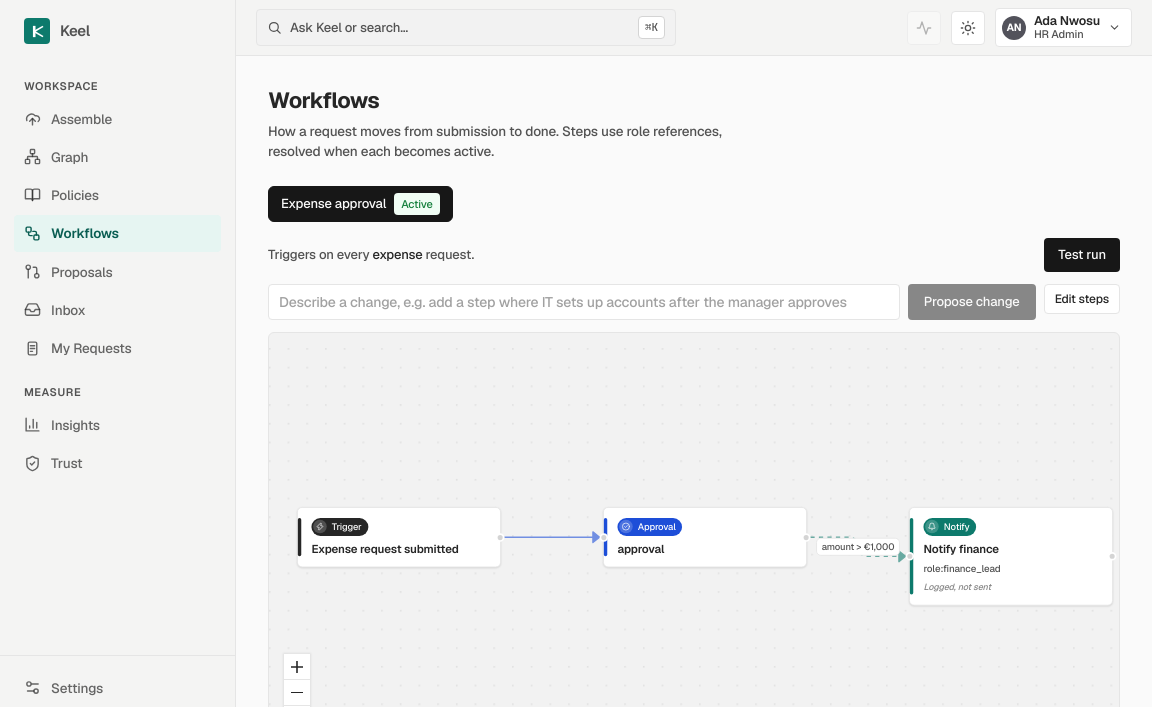
it: /workflows › runs a test run and lights up the matched steps with the resolved person
The width and height of the screenshot is (1152, 707).
Expected: the text "Expense request submitted" is shown, [312,541,459,556]
Click the button "Test run" at (1082, 255), box [1044,238,1120,272]
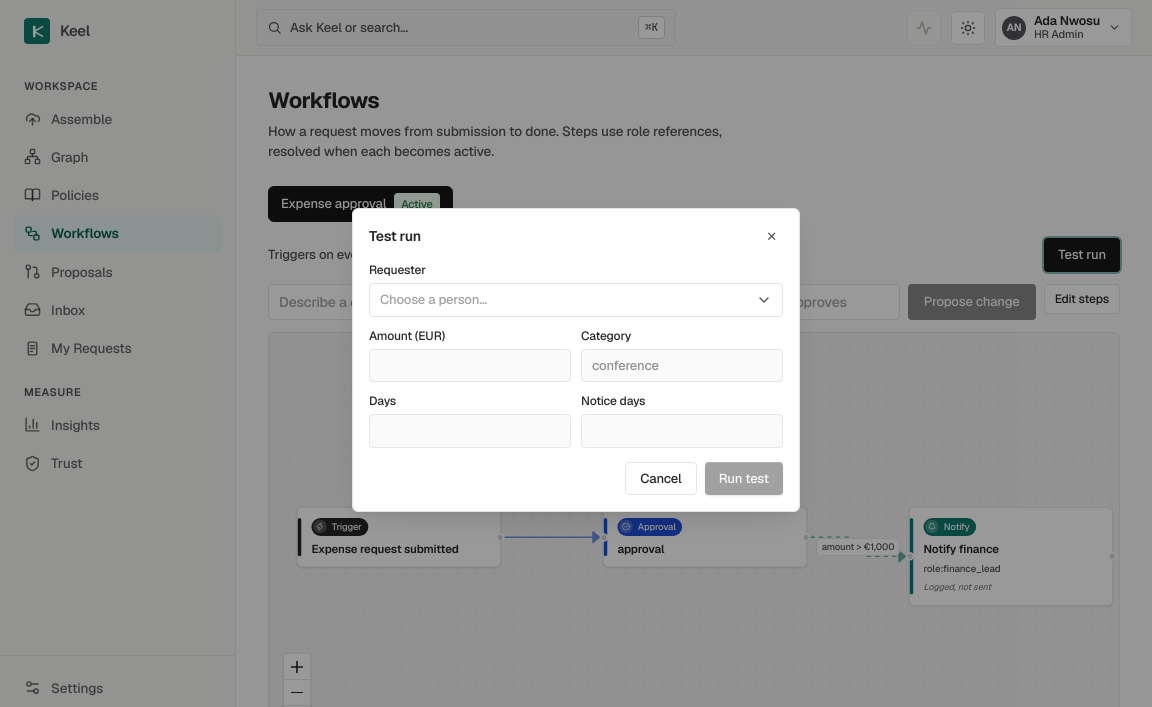
Click the dropdown named "Requester" at (434, 299), box [369,282,783,316]
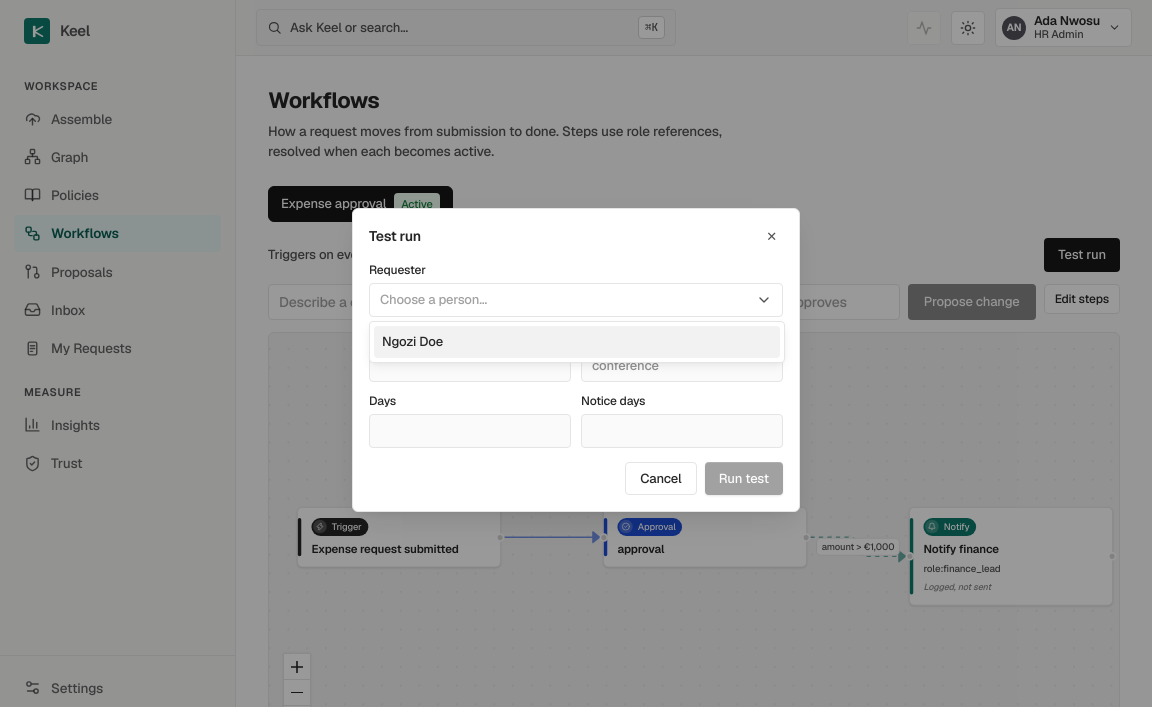
Click the option "Ngozi Doe" at (413, 342), box [374,326,780,358]
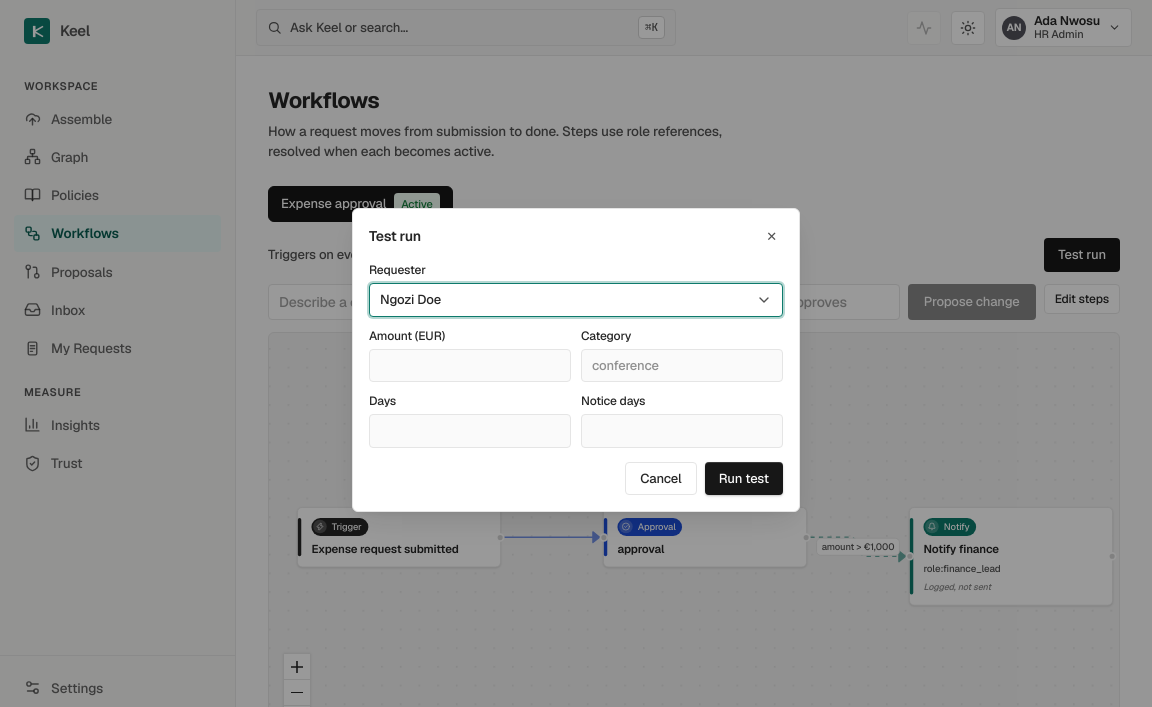
Type "1500" into the number field labelled "Amount (EUR)" at (470, 365), box [369,348,571,382]
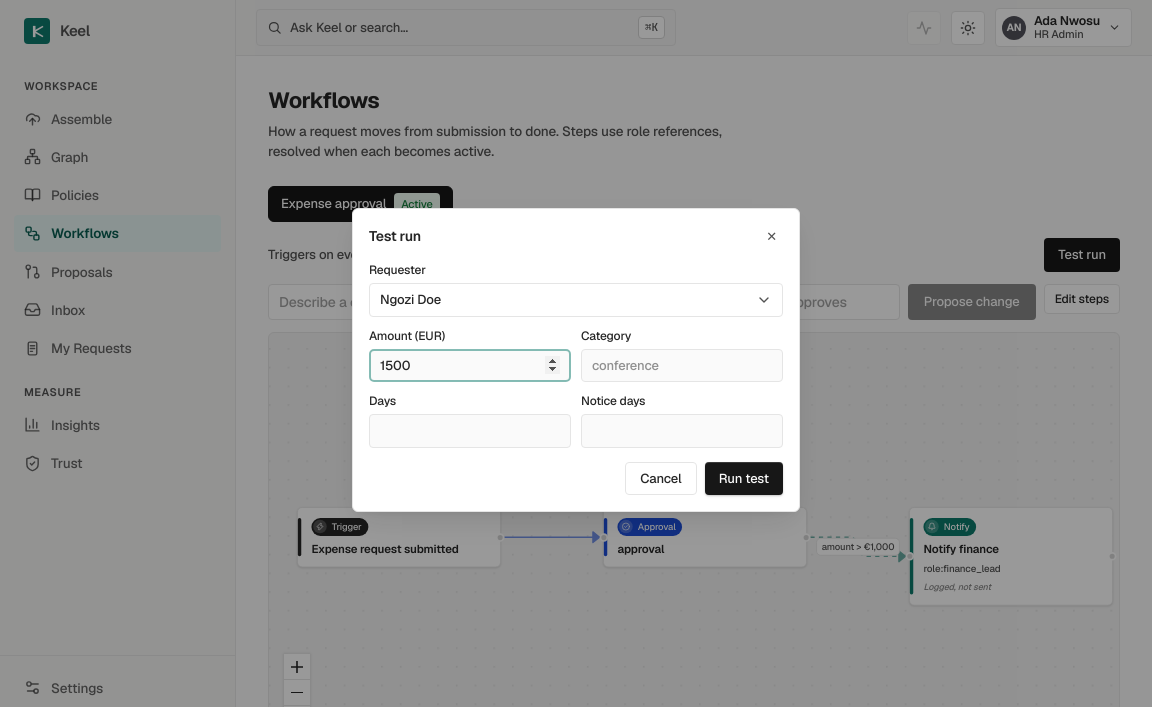
Click the button "Run test" at (744, 478), box [705,462,783,495]
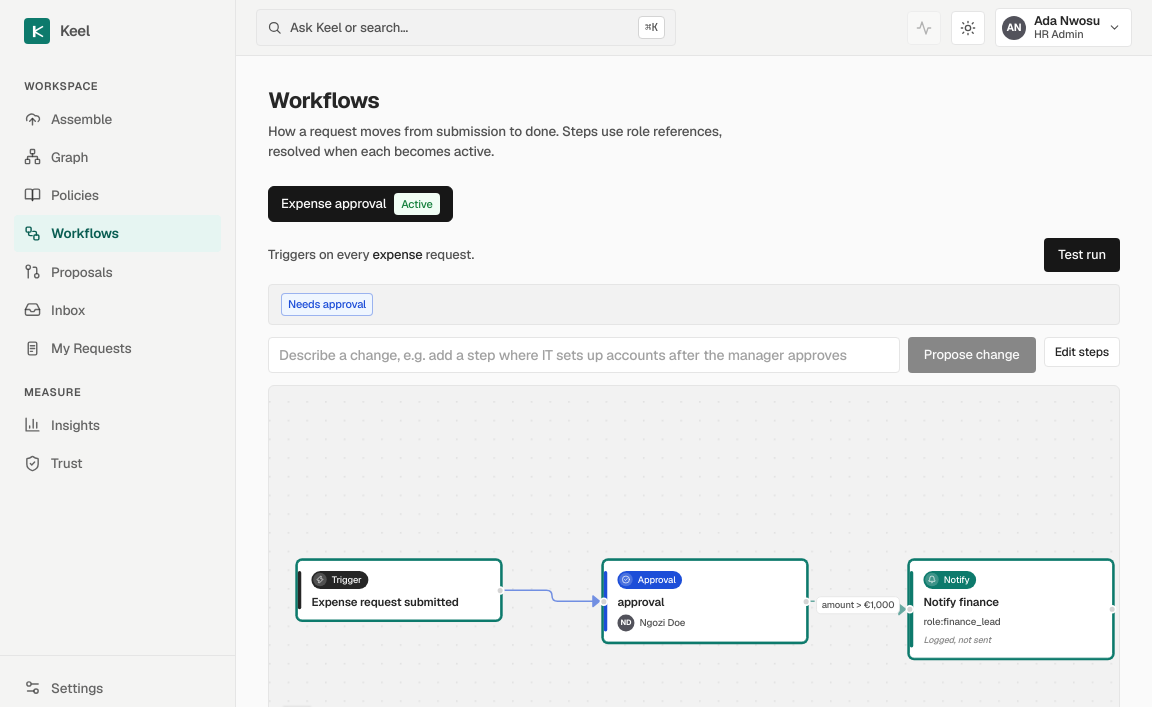
Expected: the text "Ngozi Doe" is shown, [640,615,685,630]
Expected: the text "Needs approval" is shown, [281,293,373,316]
Expected: the dialog is gone
